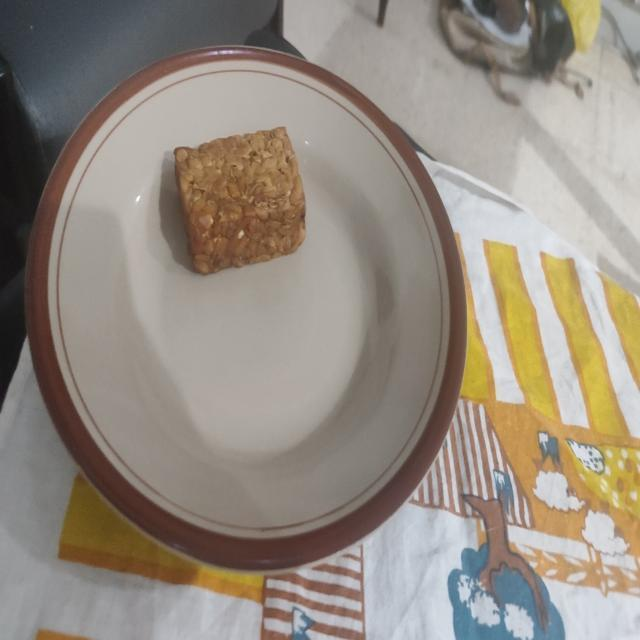tempe_goreng: (174, 127, 306, 274)
